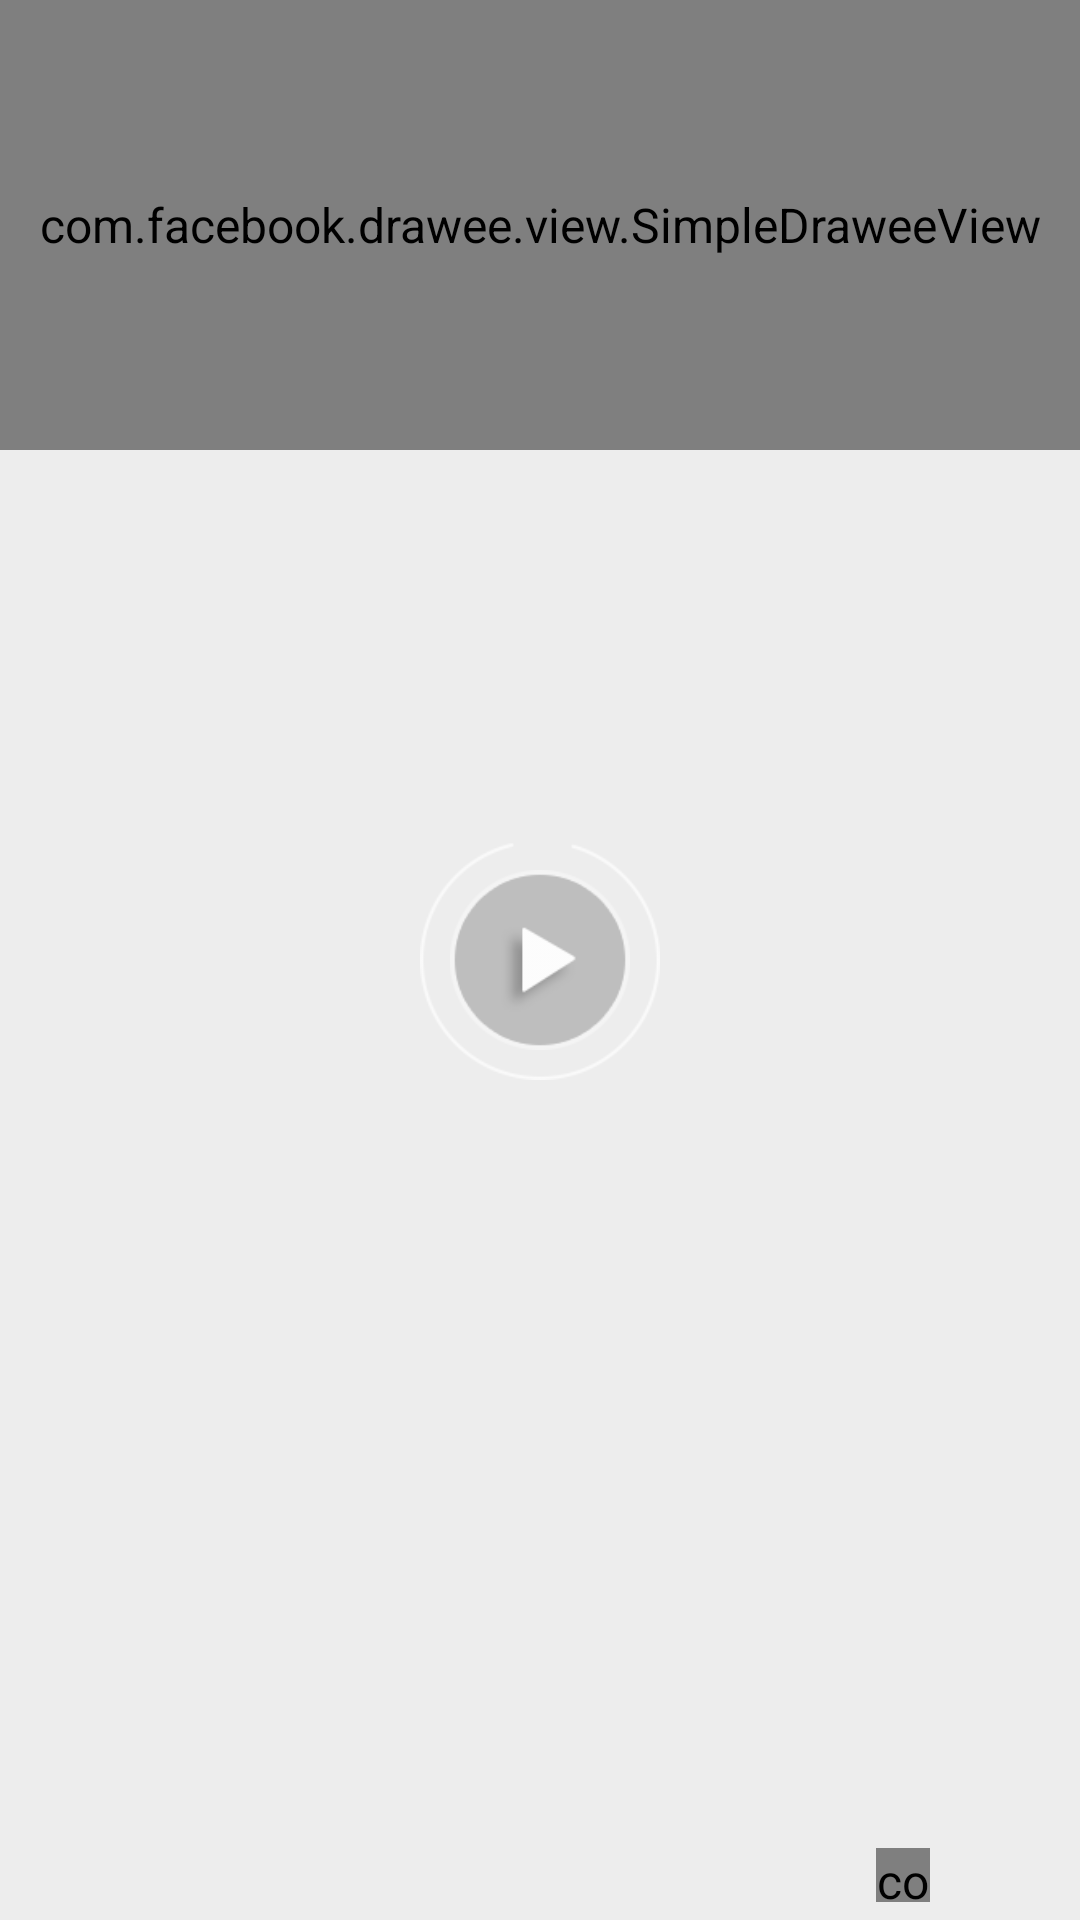

Screen size 1080w x 1920h. Icon name, then its center in pixels as (x,y):
video play: (540,960)
